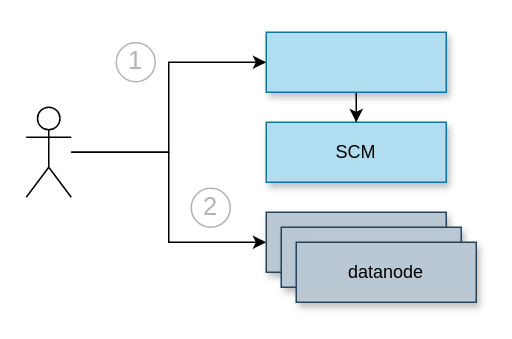
Some shapes in this 512 by 339 pixel diagram are drawn without their labels. The shapes that lost their labels are listed below. From the top down, each one's centre as x and y in pixels, then its label:
pixel 357 64: OM
pixel 48 151: Actor
